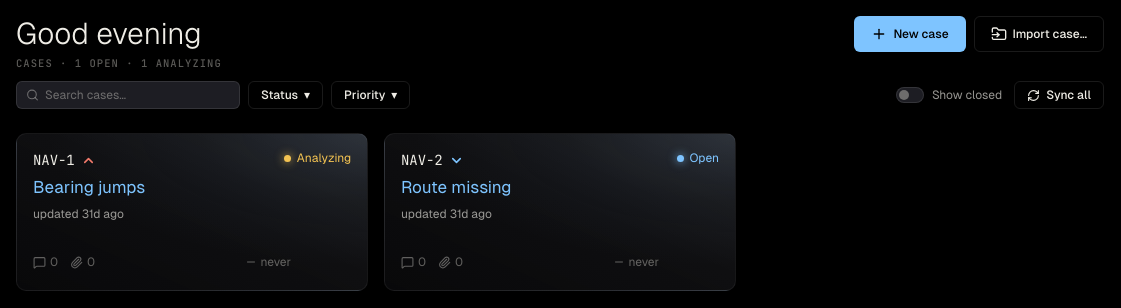
Scenario: CaseDashboard › filters by priority, offering only the values actually present
The width and height of the screenshot is (1121, 308).
What coordinates should you click on to do the following:
click the button "Priority ▾"
I would click on:
 (371, 95)
Its box is [331, 81, 410, 109].
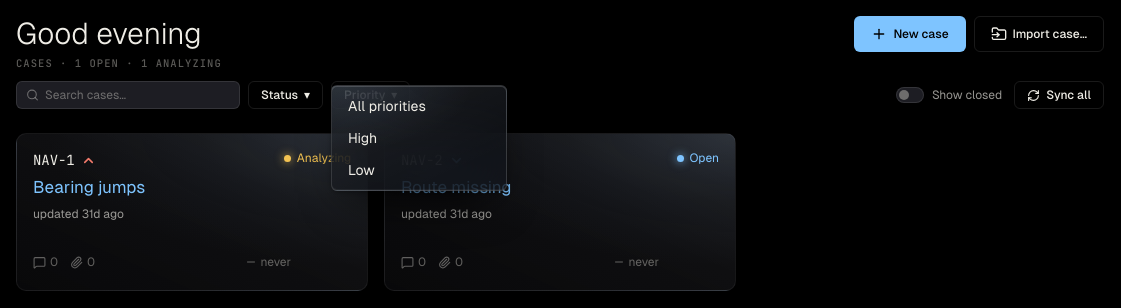
What coordinates should you click on to do the following:
click the menu item "High"
I would click on:
 (419, 138)
Its box is [336, 122, 502, 154].
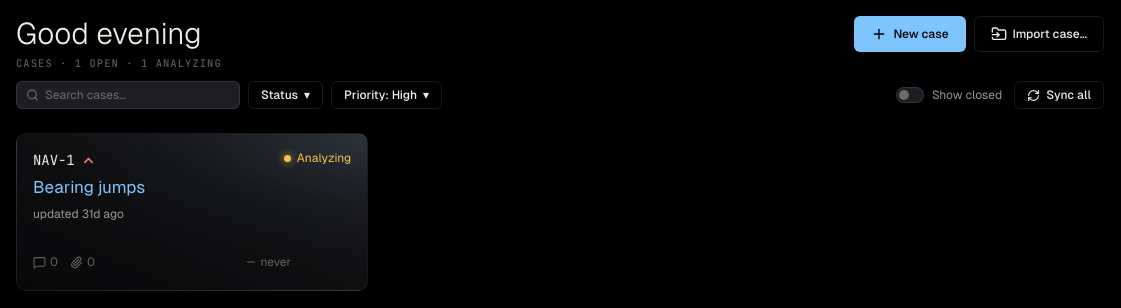
Check: the heading "Bearing jumps" is shown, box [33, 177, 145, 197]
Check: the heading "Route missing" is gone
